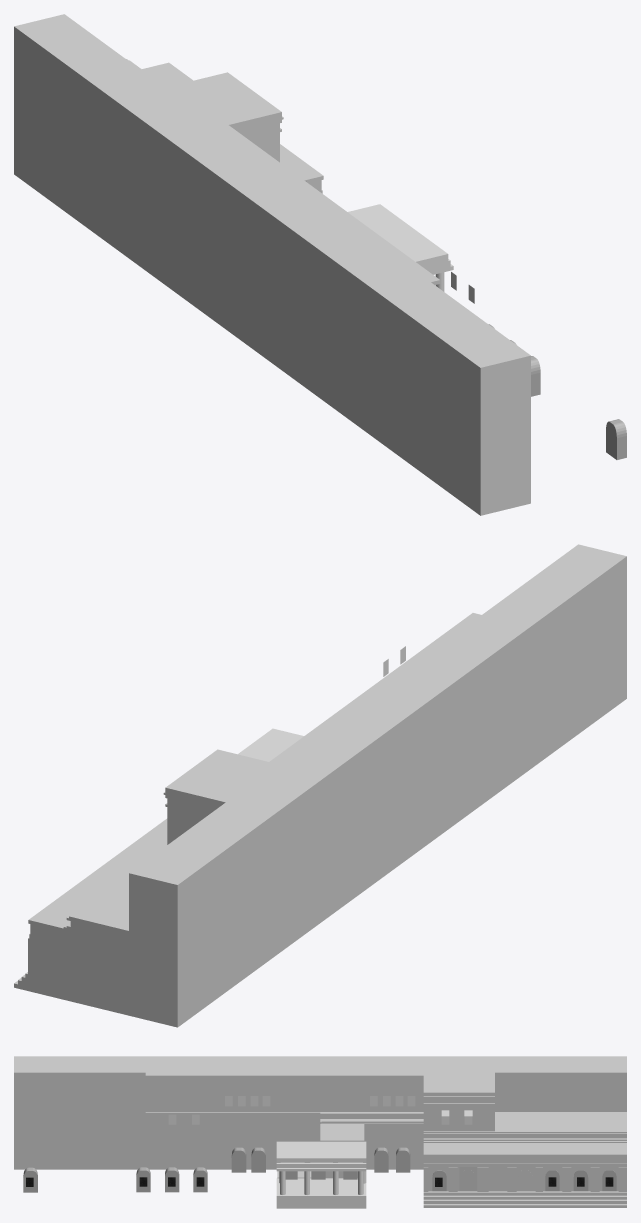
File: thomson back.glb
The picture shows the model from 3 angles, top to bottom: view 1: azimuth 30°, elevation 25°; view 2: azimuth 150°, elevation 25°; view 3: azimuth 270°, elevation 25°; orthographic projection. The views are drawn at different scales.
Visible parts, largest first — view 1: Cube, Cube.010, Cube.002, Cube.001; view 2: Cube, Cube.001, Cube.010; view 3: Cube, Cube.001, Cube.010, Cube.016, Cube.014, Cube.015, Cube.017, Cube.007, Cube.009, Cube.008, Cube.002, Cube.012 (+3 smaller).
Boxes of the visible parts, x1=… form: Cube: x1=14, y1=14, x2=530, y2=515; Cube.010: x1=348, y1=204, x2=453, y2=274; Cube.002: x1=606, y1=419, x2=626, y2=459; Cube.001: x1=144, y1=62, x2=323, y2=193; Cube: x1=14, y1=544, x2=626, y2=1027; Cube.001: x1=28, y1=818, x2=167, y2=979; Cube.010: x1=238, y1=728, x2=303, y2=761; Cube: x1=14, y1=1056, x2=626, y2=1207; Cube.001: x1=423, y1=1151, x2=626, y2=1191; Cube.010: x1=276, y1=1141, x2=366, y2=1208; Cube.016: x1=231, y1=1147, x2=246, y2=1172; Cube.014: x1=251, y1=1147, x2=265, y2=1172; Cube.015: x1=396, y1=1147, x2=410, y2=1172; Cube.017: x1=374, y1=1147, x2=388, y2=1172; Cube.007: x1=136, y1=1167, x2=150, y2=1192; Cube.009: x1=193, y1=1167, x2=207, y2=1192; Cube.008: x1=165, y1=1167, x2=179, y2=1192; Cube.002: x1=23, y1=1167, x2=37, y2=1192; Cube.012: x1=573, y1=1170, x2=588, y2=1191.
Size of the model in its own units: 34.28 by 28.13 by 160.
Materials: 8 (1 with a texture image).
